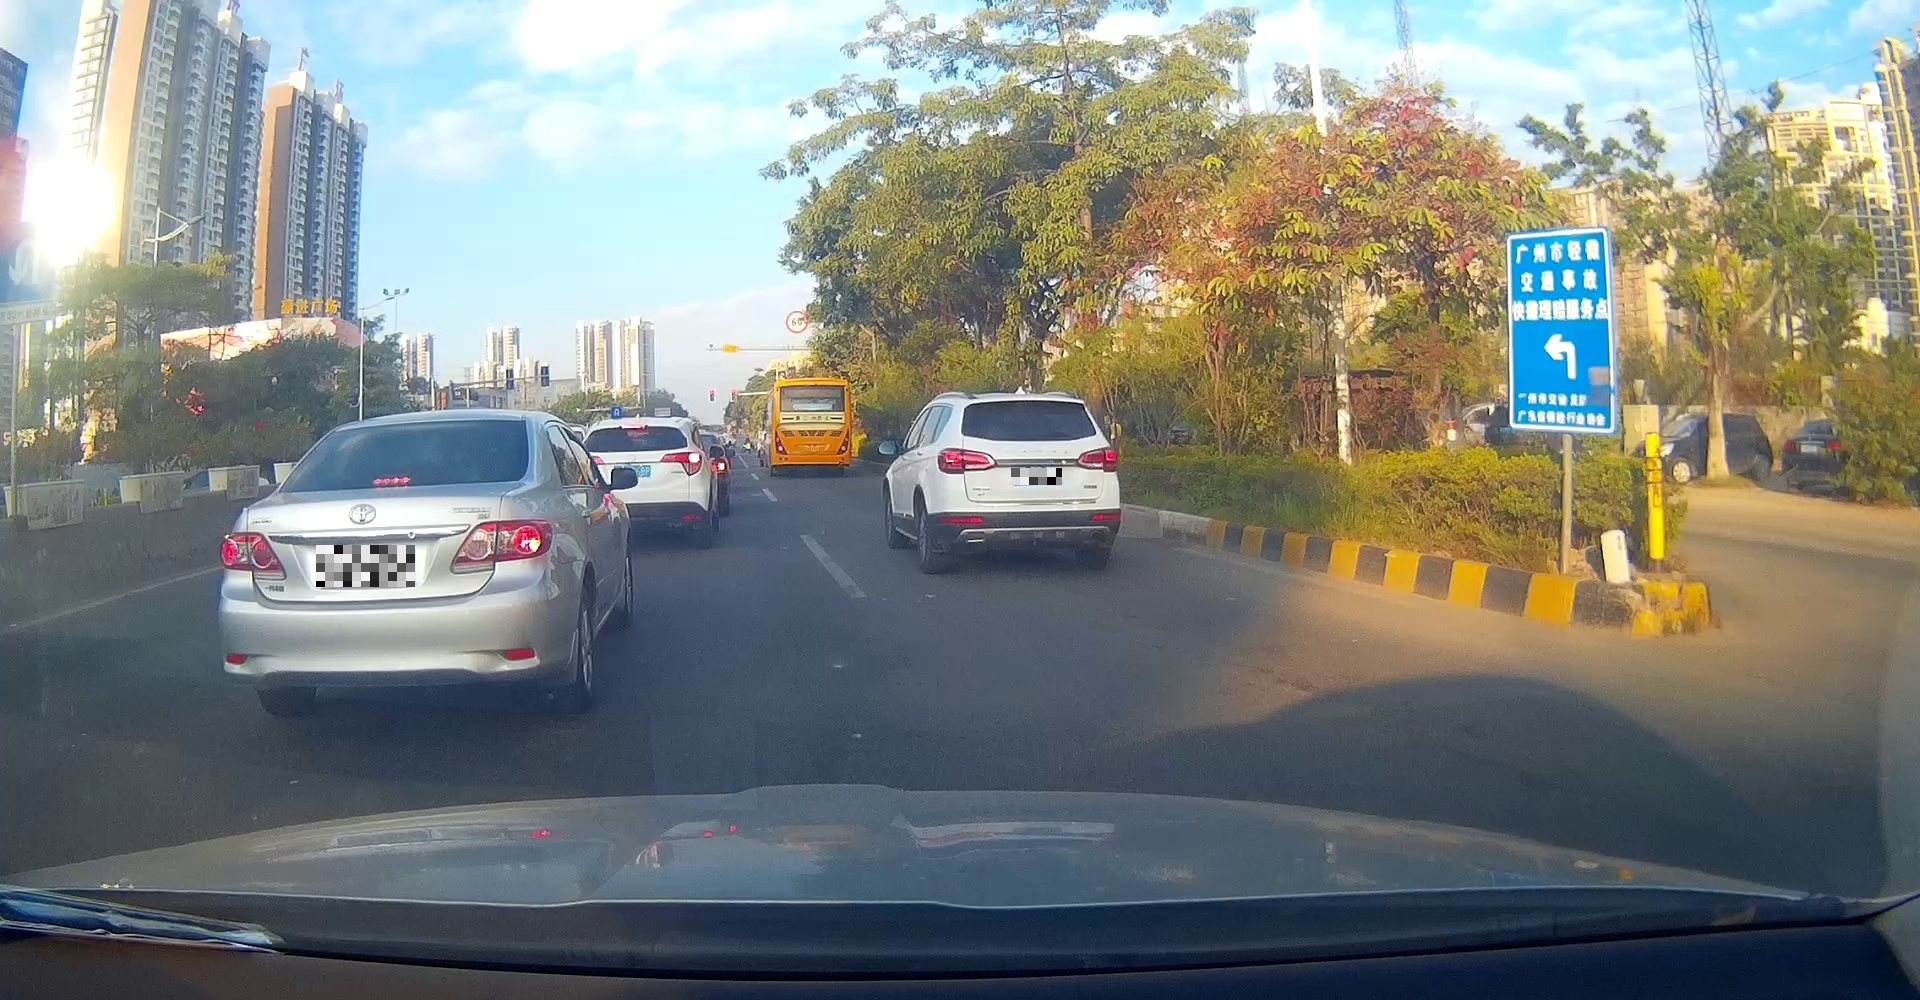L_light: (220, 532, 283, 574), (936, 447, 996, 475), (775, 430, 789, 456)
R_light: (450, 519, 552, 567), (1077, 448, 1117, 472), (836, 428, 850, 456)
T_light: (370, 476, 409, 487), (1018, 400, 1043, 406), (805, 382, 825, 386)
day-brake: (217, 409, 556, 714)
day-no: (936, 393, 1121, 575), (772, 378, 852, 477)
plate_1: (316, 544, 415, 588)
plate_2: (1011, 468, 1062, 485)
